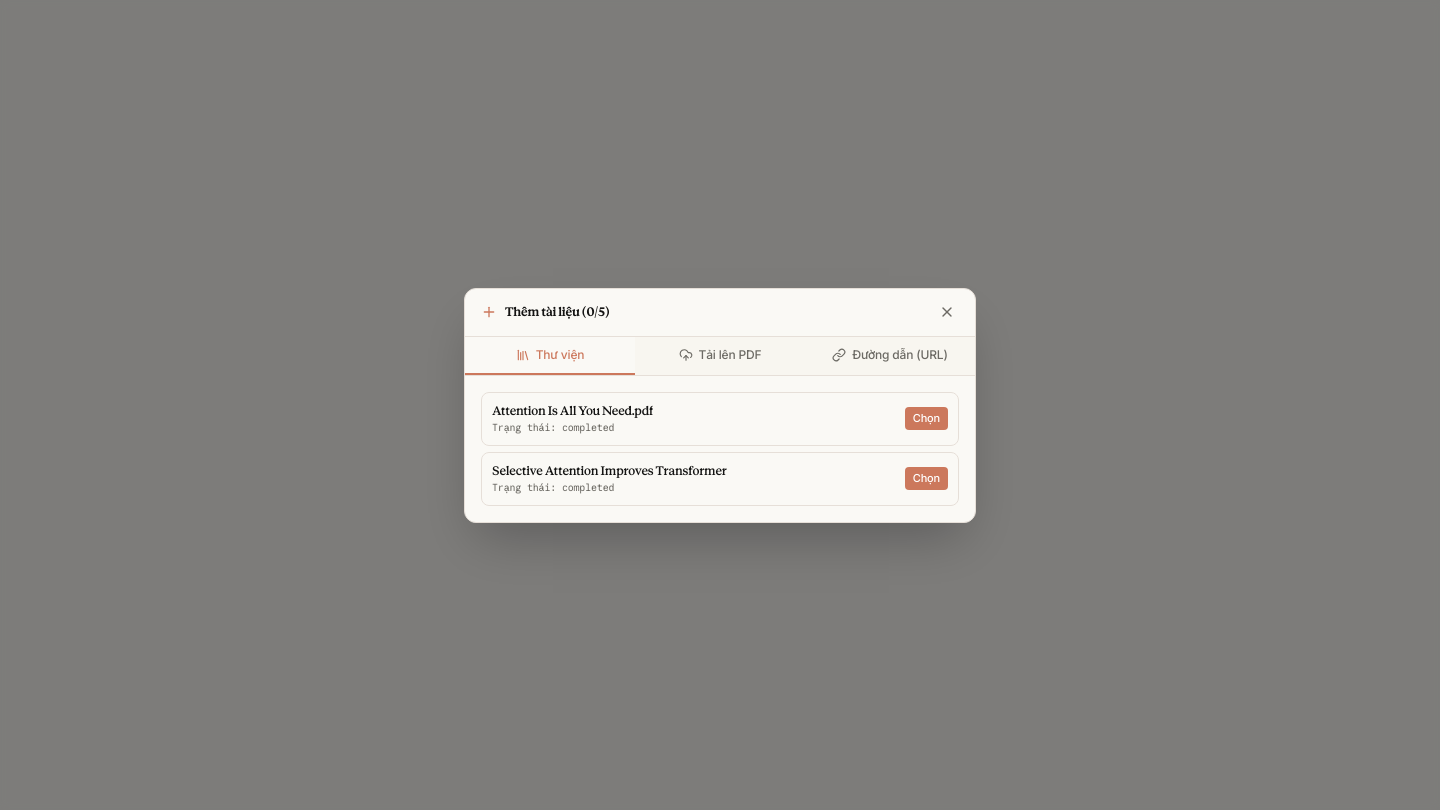
Scenario: AddDocumentModal › renders 3 tabs including 'Tải lên PDF' and allows uploading local PDF file
Click the button "Tải lên PDF". click: (720, 356)
box: [635, 336, 805, 374]
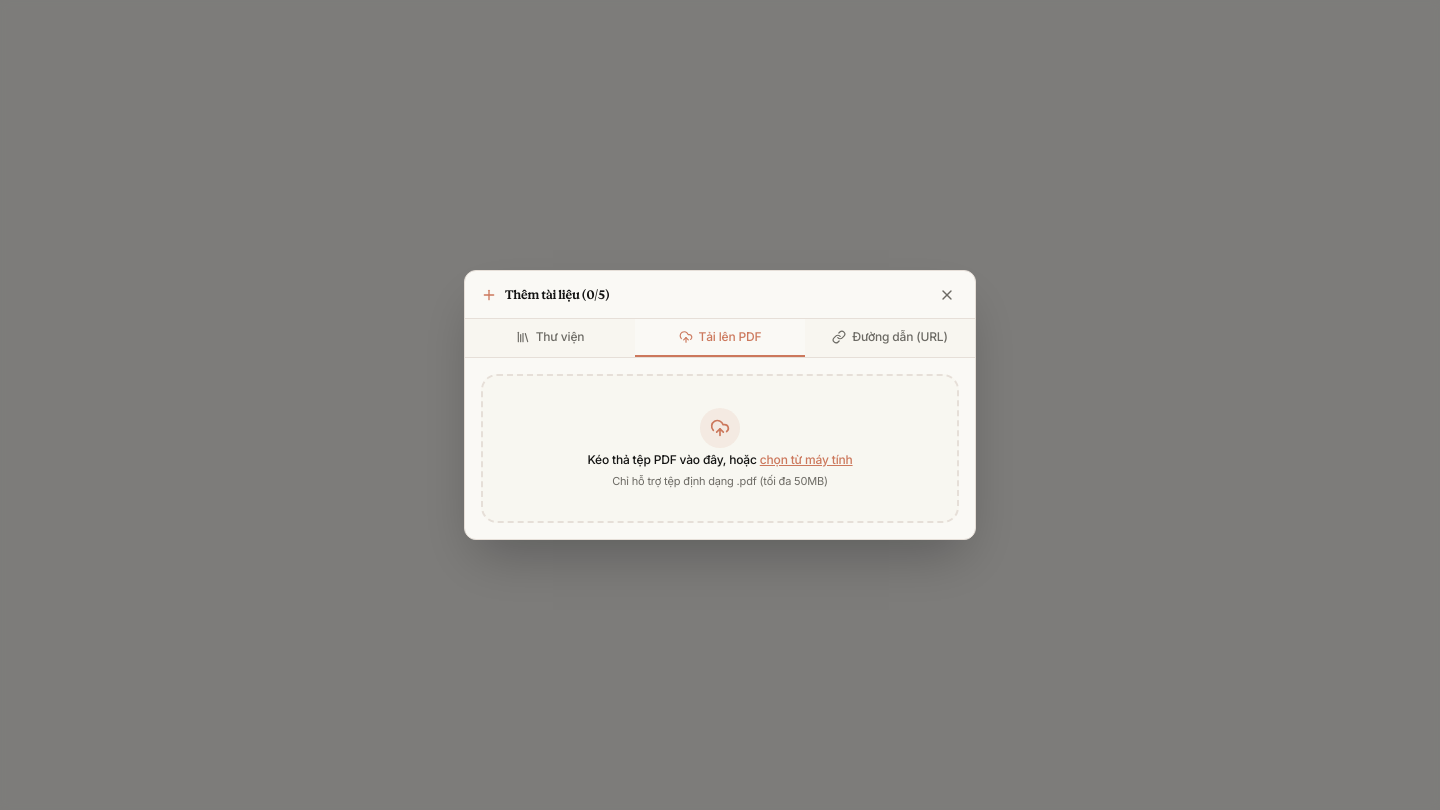
Expected: the element with test id "session-pdf-file-input" is shown, [481, 374, 959, 523]
